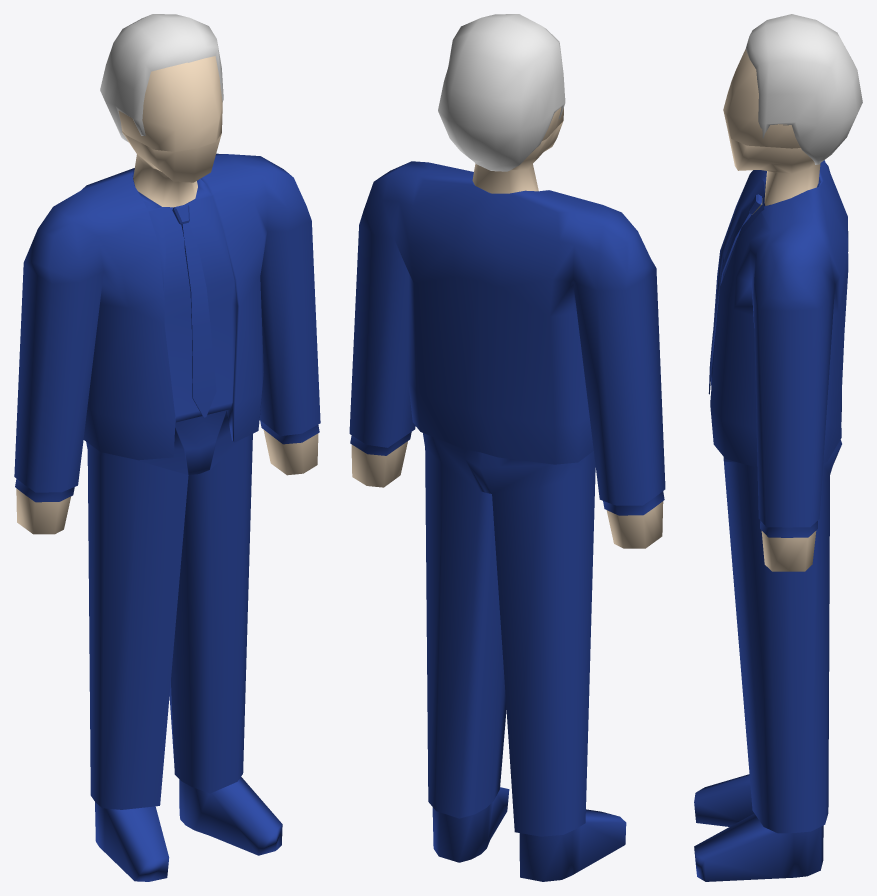
The model's file is Politician02.fbx.
3 views of the same model, side by side, from view 1: azimuth 30°, elevation 25°; view 2: azimuth 150°, elevation 25°; view 3: azimuth 270°, elevation 25° (orthographic). The views are drawn at different scales.
Parts seen in each view (by area): view 1: body, hair1, lookatdatopofhishead; view 2: body, hair1; view 3: body, hair1, lookatdatopofhishead.
Boxes of the visible parts, x1,y1,x2,y2 form: body: [14, 131, 320, 881]; hair1: [100, 14, 223, 142]; lookatdatopofhishead: [118, 56, 222, 151]; body: [349, 121, 665, 881]; hair1: [438, 14, 565, 171]; body: [694, 130, 848, 881]; hair1: [745, 14, 862, 164]; lookatdatopofhishead: [723, 49, 800, 148].
Bounding box in the file's own units: 2.38 × 6.49 × 1.2.
